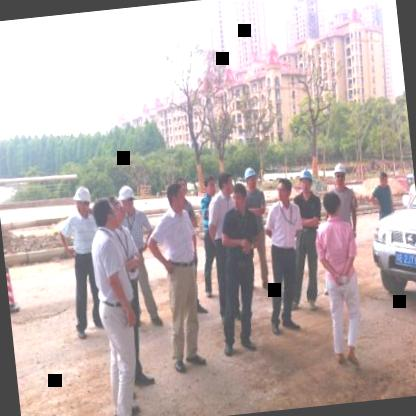head: (90, 196, 118, 236), (318, 185, 346, 222), (271, 174, 296, 206), (164, 184, 188, 214), (106, 193, 124, 226), (215, 168, 235, 196), (231, 182, 250, 210), (374, 167, 392, 191), (201, 174, 217, 198), (408, 167, 415, 190)
helmet: (70, 184, 98, 224), (110, 180, 140, 216), (294, 164, 317, 198), (328, 159, 349, 190), (239, 162, 258, 193)
